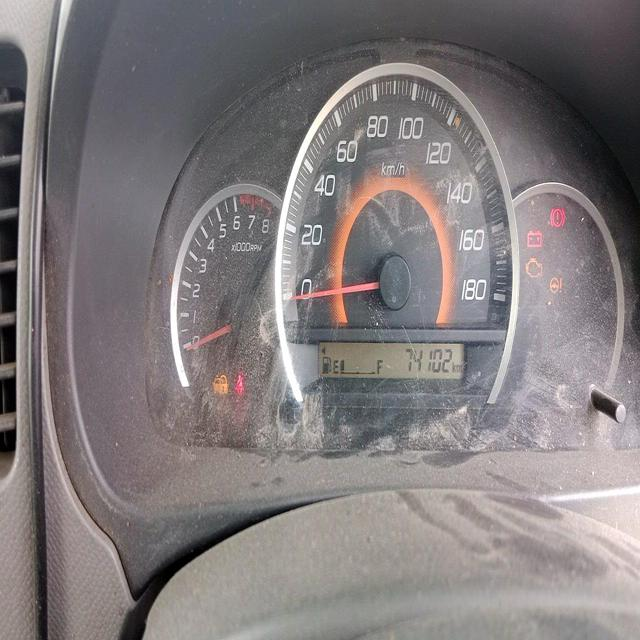odometer: (403, 344, 453, 374)
